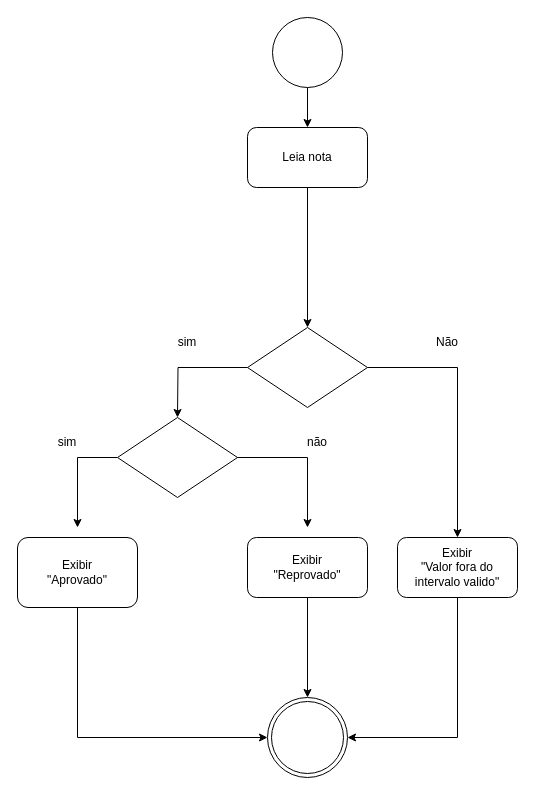
This 535x795 diagram has some shape labels left out. The shapes that lost their labels are listed below. From the top down, each one's centre as x and y in pixels, then its label:
point 307,367: esta entre 0 e 10?
point 177,457: Nota >= 6
